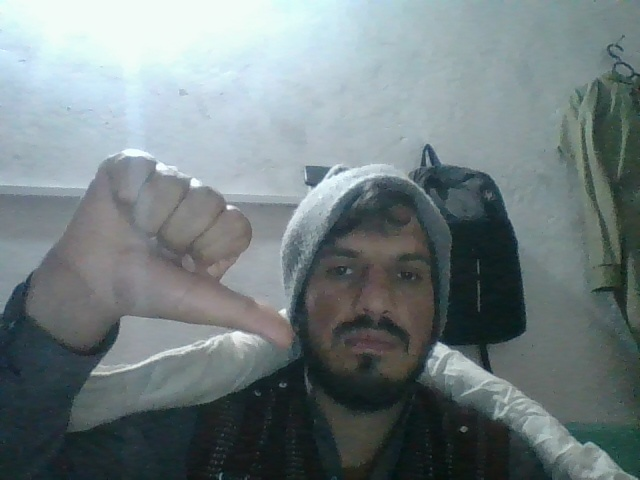ThumbsDown: (58, 148, 306, 351)
